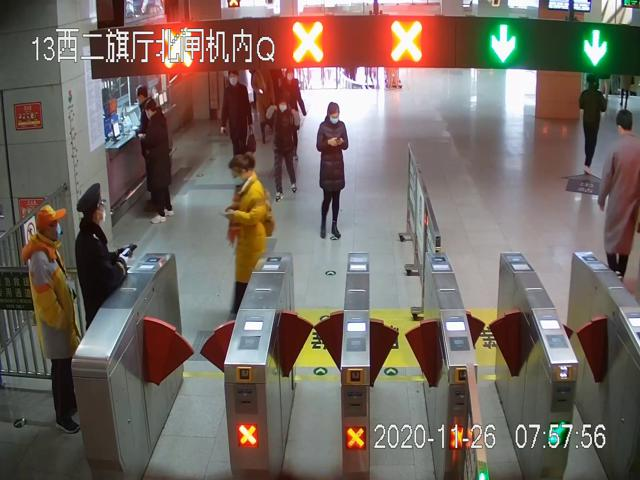person: (24, 202, 77, 431), (75, 184, 133, 333), (224, 149, 276, 315), (601, 109, 638, 264), (146, 105, 180, 224), (318, 103, 348, 237), (218, 70, 255, 164), (267, 96, 300, 197), (581, 76, 604, 173), (133, 84, 154, 168), (281, 69, 302, 97)
